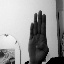b: (26, 8, 52, 64)
